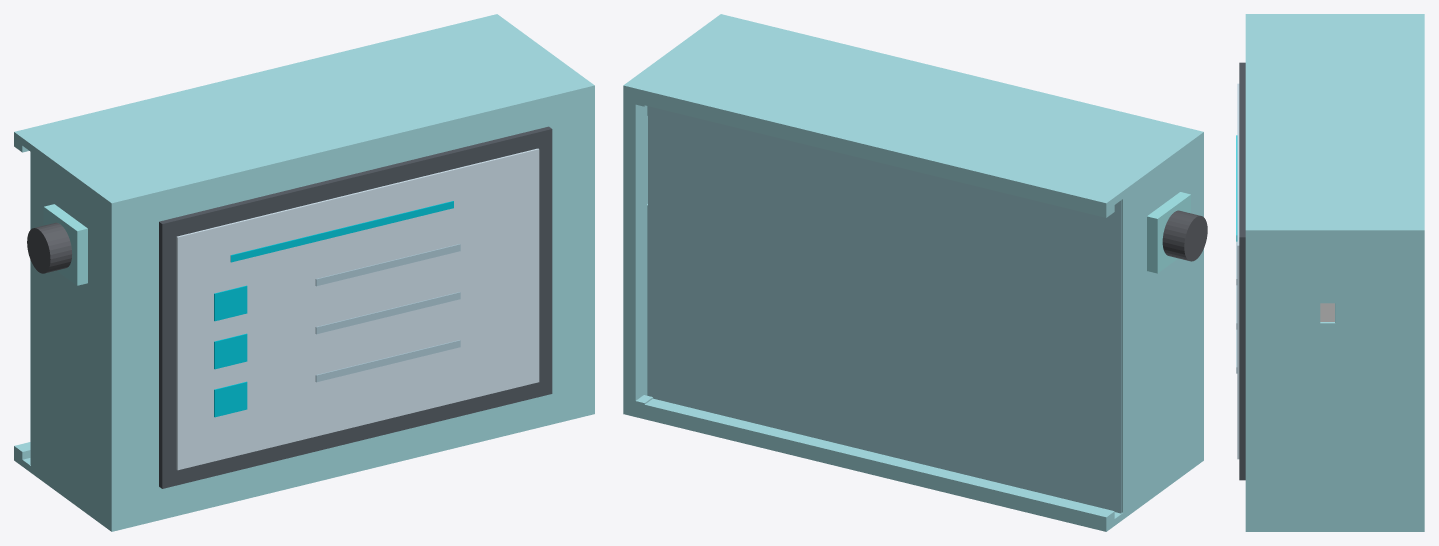
The model's file is sipdus3d.glb.
3 renders of one model, left to right at view 1: azimuth 30°, elevation 25°; view 2: azimuth 150°, elevation 25°; view 3: azimuth 270°, elevation 25°, orthographic. The views are drawn at different scales.
Parts seen in each view (by area): view 1: Carcaca_azul, Tela_frontal, Moldura_preta_tela, Botao_lateral, Interface_cabecalho, Painel_azul_ajuste_abertura, Linha_interface_3, Linha_interface_2, Linha_interface_1, Icone_interface_1, Icone_interface_2, Icone_interface_3; view 2: Tampa_traseira_encaixada, Carcaca_azul, Botao_lateral, Painel_azul_ajuste_abertura; view 3: Carcaca_azul, Moldura_preta_tela, Tela_frontal, Cubo.001.
Part boxes in pixels (box(x1,y1,x2,y2)): Carcaca_azul: box(14, 14, 594, 531); Tela_frontal: box(176, 148, 539, 470); Moldura_preta_tela: box(159, 126, 552, 488); Botao_lateral: box(27, 222, 72, 273); Interface_cabecalho: box(230, 201, 453, 262); Painel_azul_ajuste_abertura: box(43, 204, 87, 285); Linha_interface_3: box(315, 340, 460, 382); Linha_interface_2: box(315, 292, 460, 334); Linha_interface_1: box(315, 244, 460, 286); Icone_interface_1: box(214, 285, 247, 321); Icone_interface_2: box(214, 333, 247, 369); Icone_interface_3: box(214, 381, 247, 417); Tampa_traseira_encaixada: box(648, 106, 1121, 513); Carcaca_azul: box(623, 14, 1203, 531); Botao_lateral: box(1162, 210, 1207, 261); Painel_azul_ajuste_abertura: box(1147, 192, 1190, 273); Carcaca_azul: box(1245, 14, 1424, 531); Moldura_preta_tela: box(1239, 62, 1245, 480); Tela_frontal: box(1237, 83, 1239, 459); Cubo.001: box(1320, 303, 1334, 321).
Bounding box in the file's own units: 107 × 65 × 36.8.
